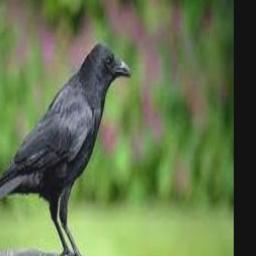Crow: (0, 40, 132, 256)
